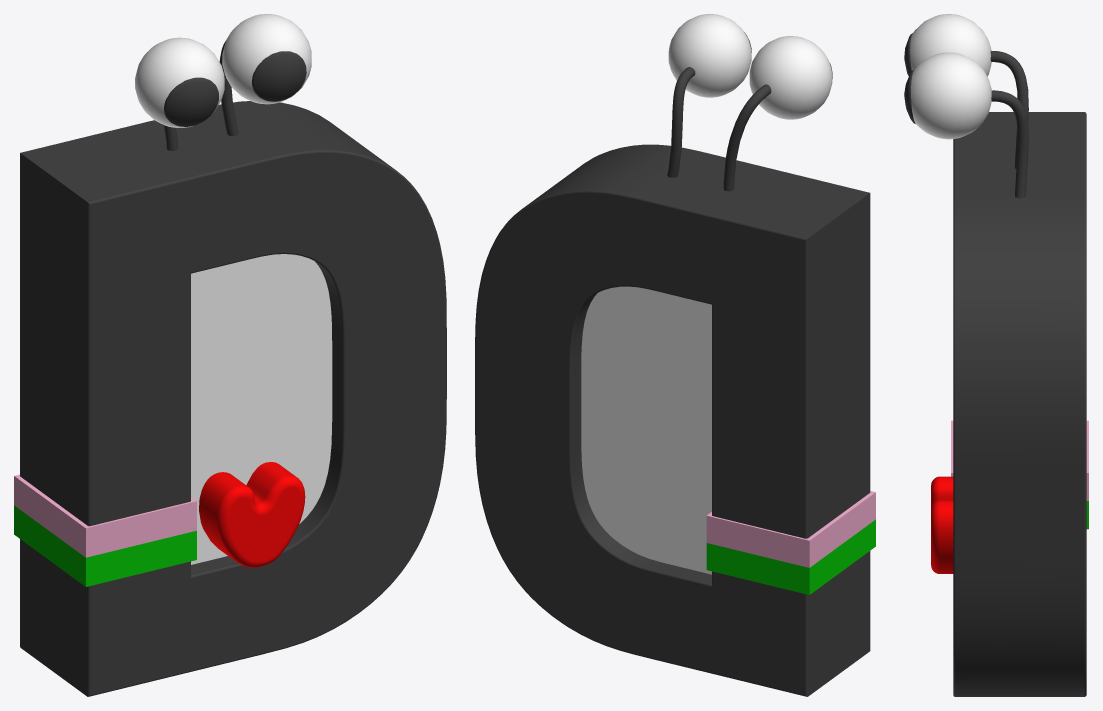
3 renders of one model, left to right at view 1: azimuth 30°, elevation 25°; view 2: azimuth 150°, elevation 25°; view 3: azimuth 270°, elevation 25°, orthographic. The views are drawn at different scales.
Parts seen in each view (by area): view 1: 027_DayDay_D2_L; view 2: 027_DayDay_D2_L; view 3: 027_DayDay_D2_L.
Boxes of the visible parts, bbox=[...] form: 027_DayDay_D2_L: bbox=[14, 14, 446, 696]; 027_DayDay_D2_L: bbox=[475, 14, 875, 696]; 027_DayDay_D2_L: bbox=[904, 14, 1088, 696].
Bounding box in the file's own units: 0.1192 × 0.2002 × 0.0547.
